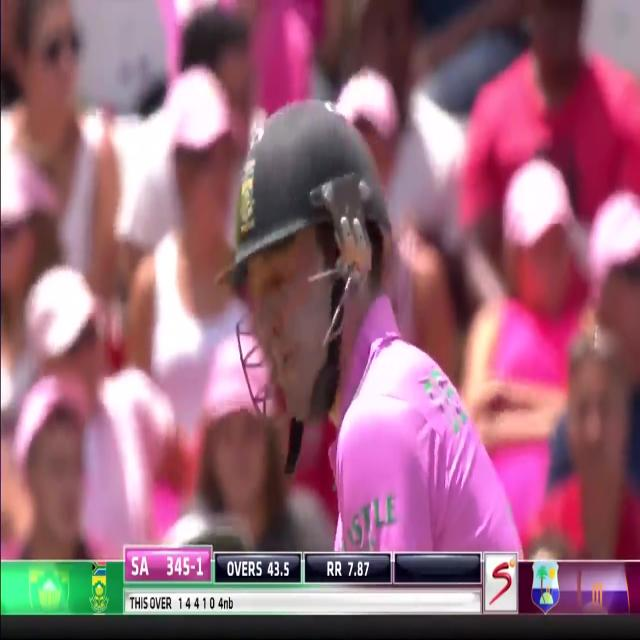Ball: (213, 85, 529, 556)
